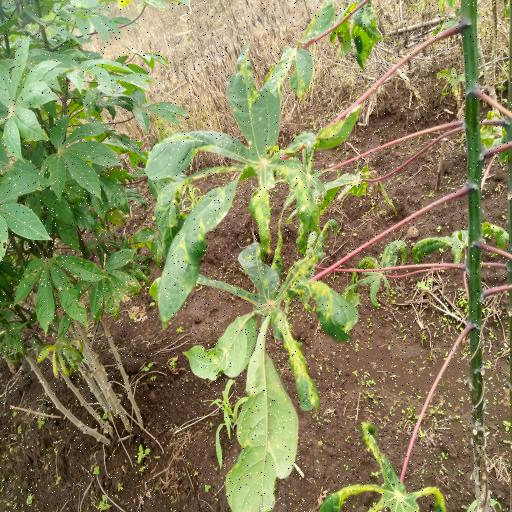Cassava_Mosaic: (147, 54, 352, 309), (189, 254, 357, 503)
